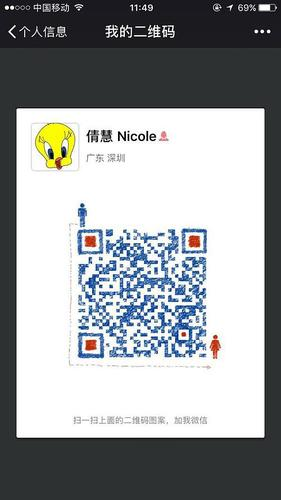QRCode: (74, 225, 210, 359)
